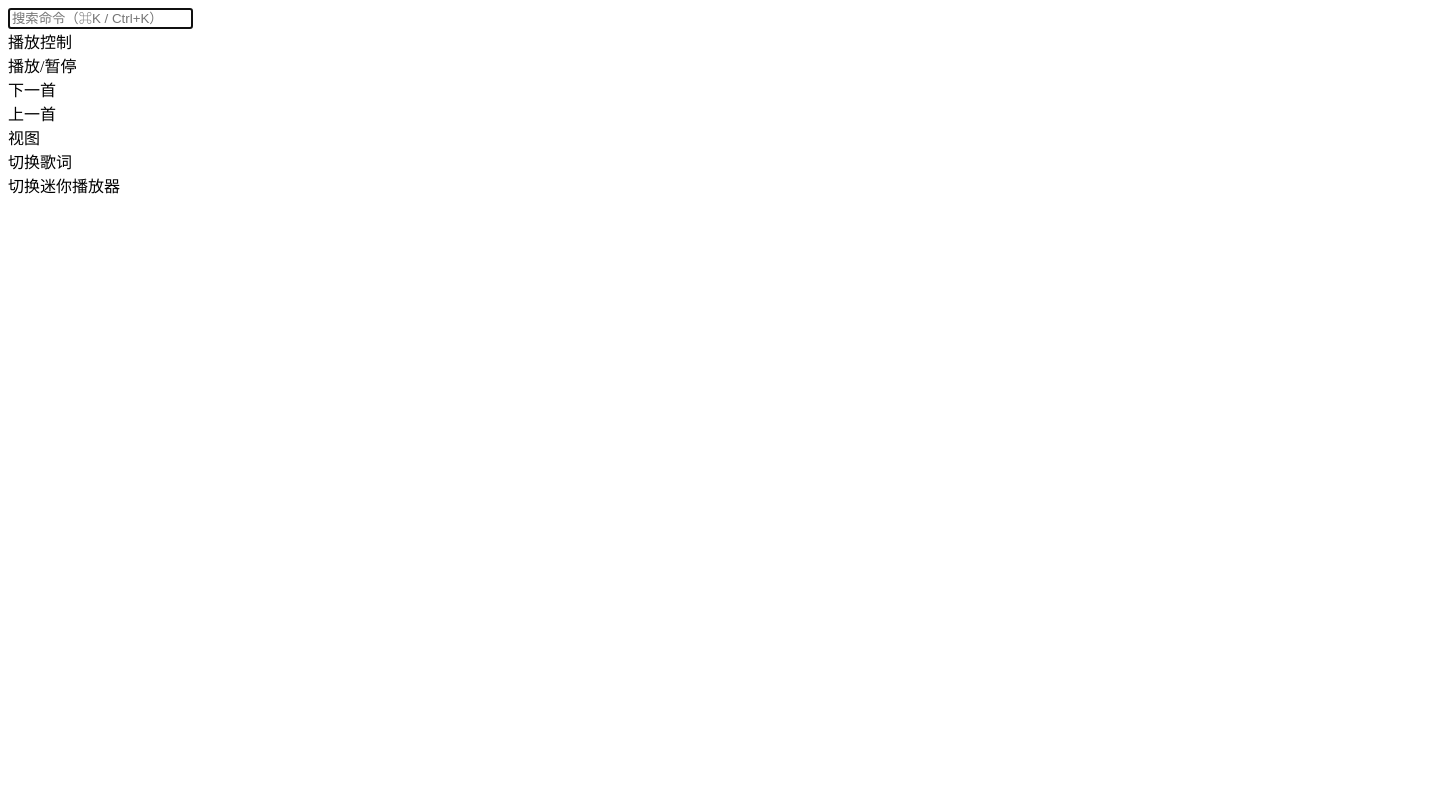
Test case: CmdKPalette 过滤 › 查询无任何命中时显示具体「没有搜索结果」反馈而非通用 CommandEmpty
The image size is (1440, 810).
Type "zzzz" into the dropdown with placeholder "搜索命令（⌘K / Ctrl+K）" at (100, 18), box x1=8 y1=8 x2=193 y2=29
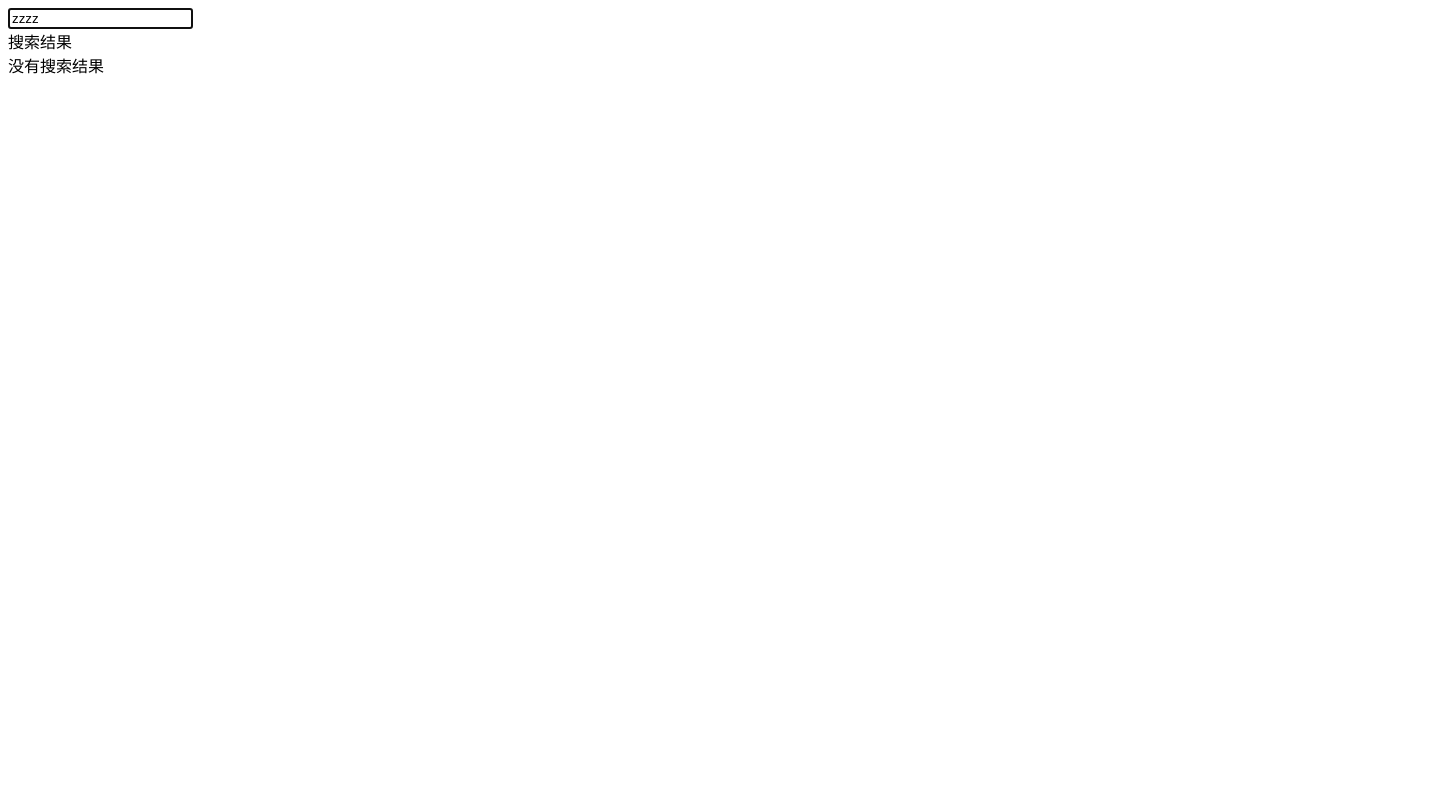
Result: the option "没有搜索结果" is shown at x1=8 y1=58 x2=104 y2=75
